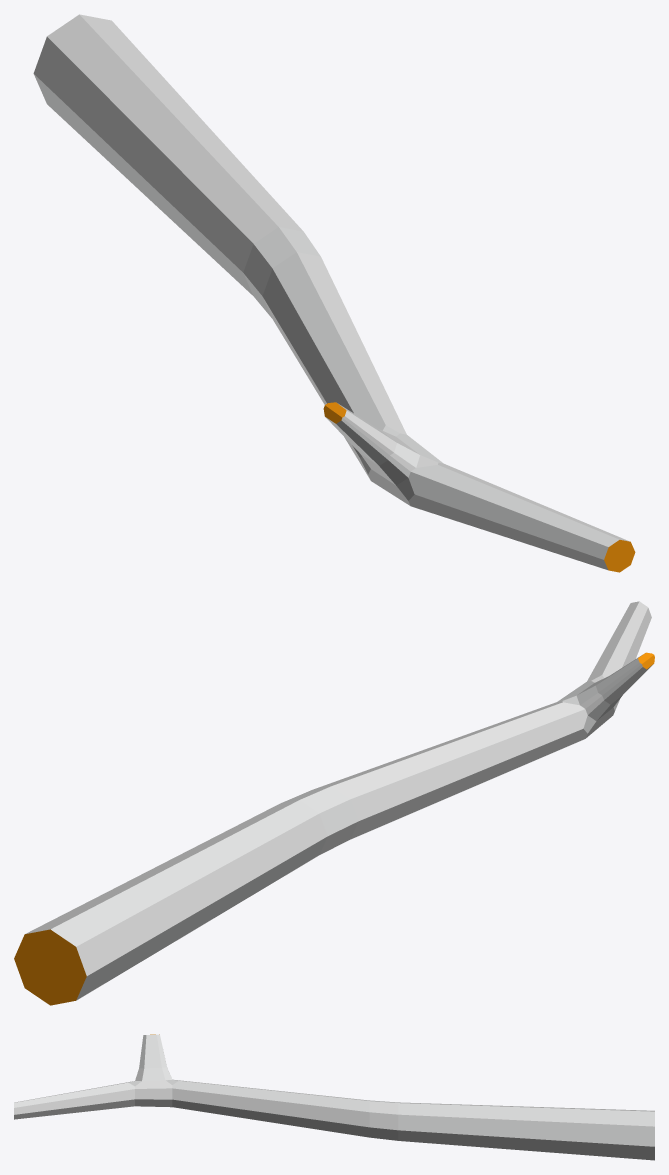
The model's file is Stick_25.fbx.
3 views of the same model, one above another, from view 1: azimuth 30°, elevation 25°; view 2: azimuth 150°, elevation 25°; view 3: azimuth 270°, elevation 25° (orthographic). The views are drawn at different scales.
Visible parts, largest first — view 1: Circle.218; view 2: Circle.218; view 3: Circle.218.
Part boxes in pixels (x1=…): Circle.218: x1=33, y1=14, x2=635, y2=572; Circle.218: x1=14, y1=601, x2=654, y2=1005; Circle.218: x1=14, y1=1034, x2=654, y2=1160.
Bounding box in the file's own units: 11.09 × 4.68 × 41.23.
